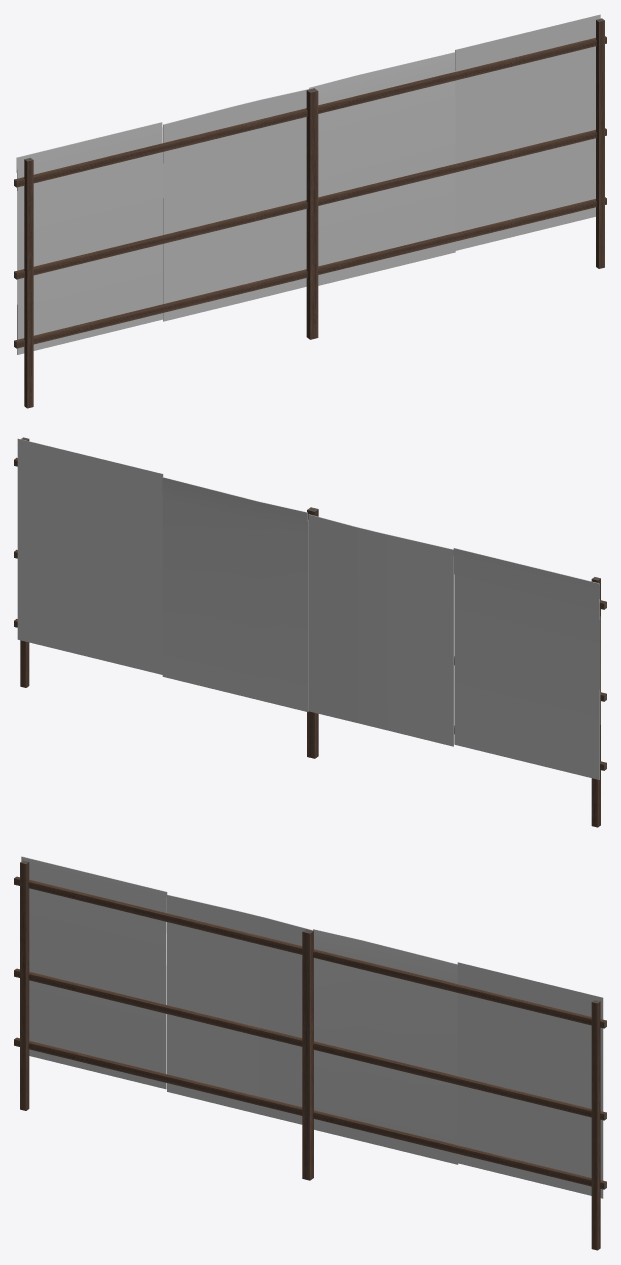
Rendered from fence05b_2t.fbx.
3 renders of one model, top to bottom at view 1: azimuth 30°, elevation 25°; view 2: azimuth 150°, elevation 25°; view 3: azimuth 330°, elevation 25°, orthographic.
Parts seen in each view (by area): view 1: fence05b_2t; view 2: fence05b_2t; view 3: fence05b_2t.
Part boxes in pixels (x1,y1,x2,y2): fence05b_2t: (14, 14, 606, 408); fence05b_2t: (14, 437, 606, 827); fence05b_2t: (14, 856, 606, 1250).
Size of the model in its own units: 445 by 180 by 9.52.
